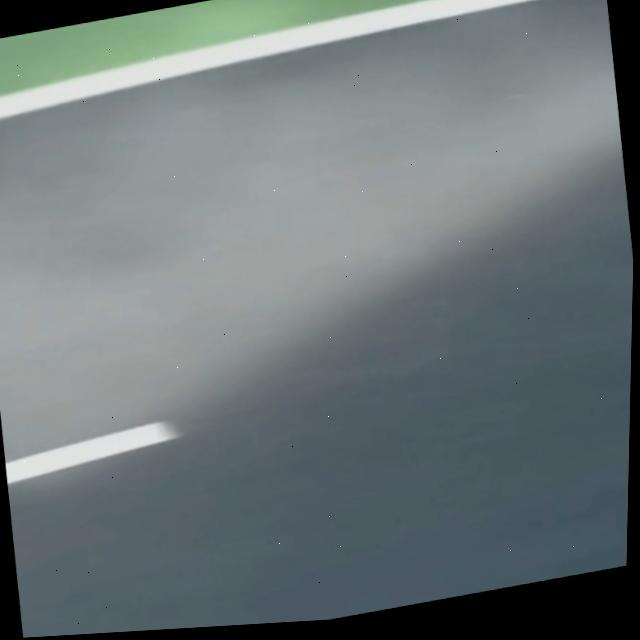center: (5, 421, 176, 483)
right: (0, 0, 531, 118)
